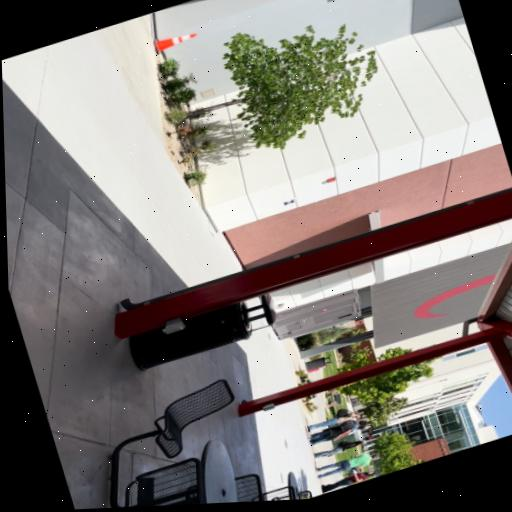target6: (283, 198, 294, 206)
